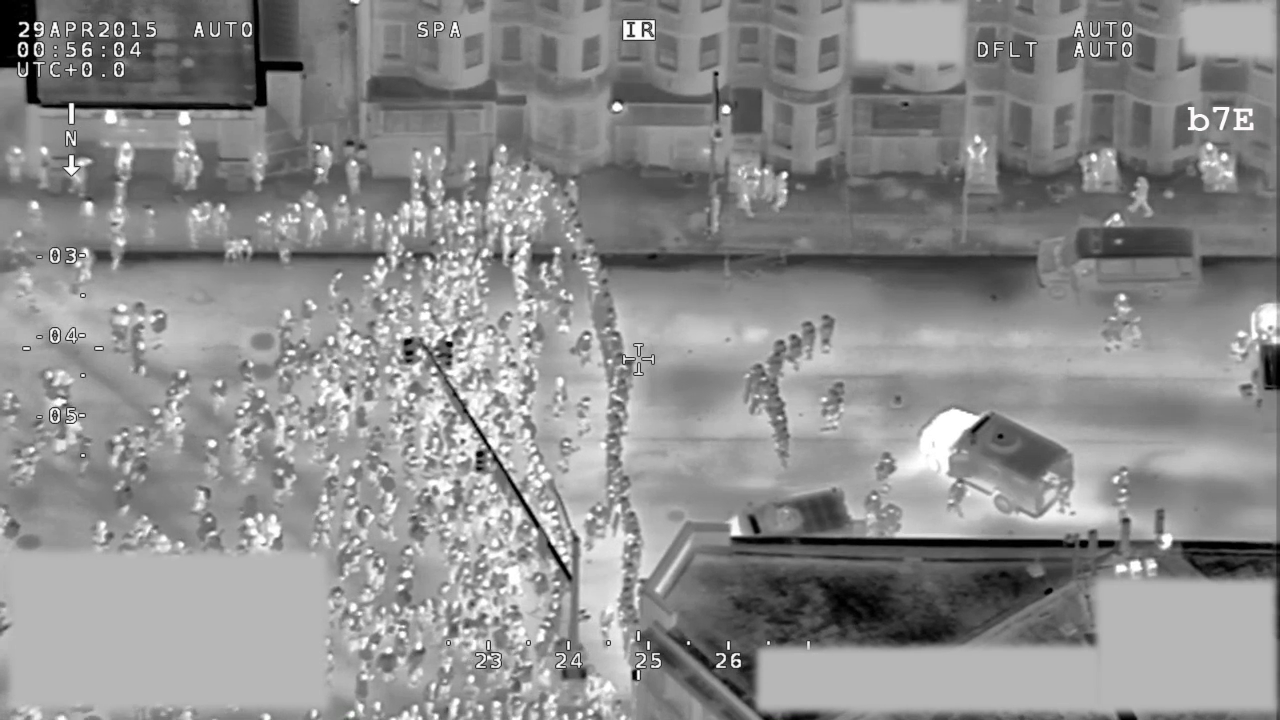vehicle: (904, 398, 1076, 518), (1029, 220, 1211, 297)
